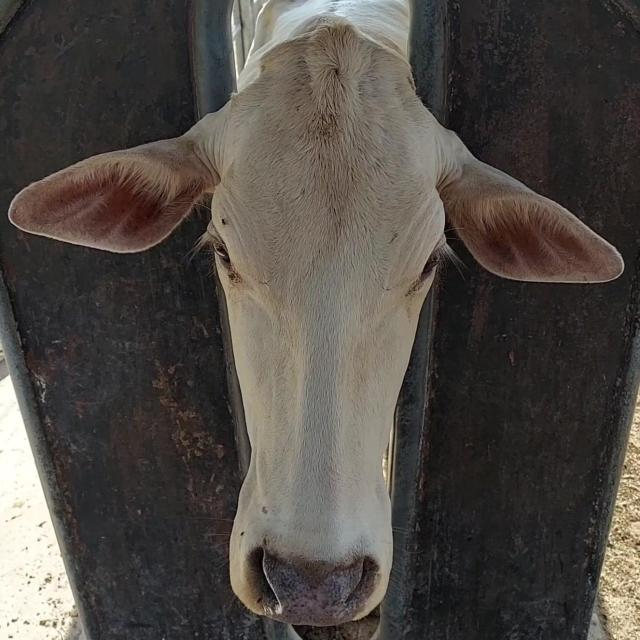cowFace: (206, 32, 445, 624)
